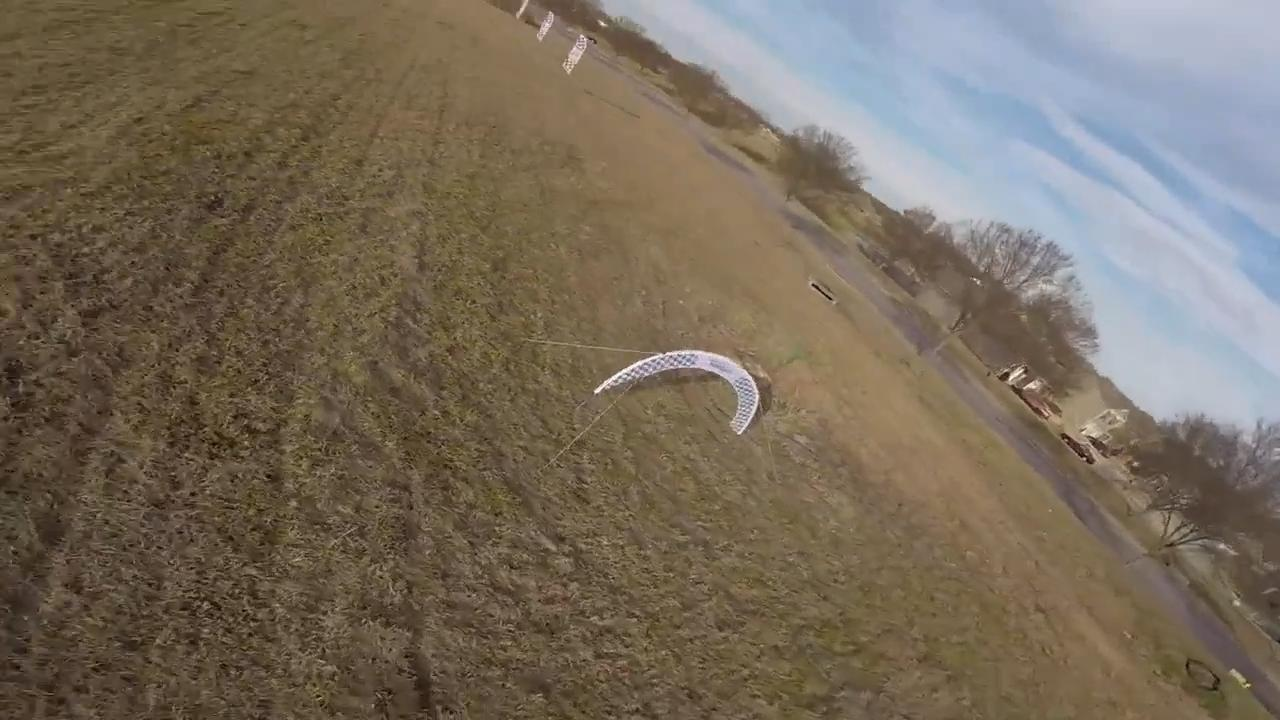gate: (592, 350, 767, 442)
